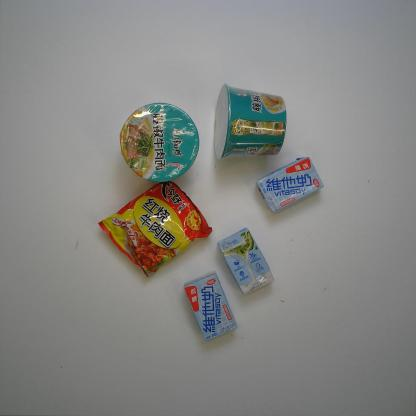Instant Noodles: (98, 178, 213, 278), (120, 103, 200, 182), (212, 83, 288, 162)
Milk: (255, 156, 324, 214), (217, 226, 274, 296), (183, 271, 237, 343)
